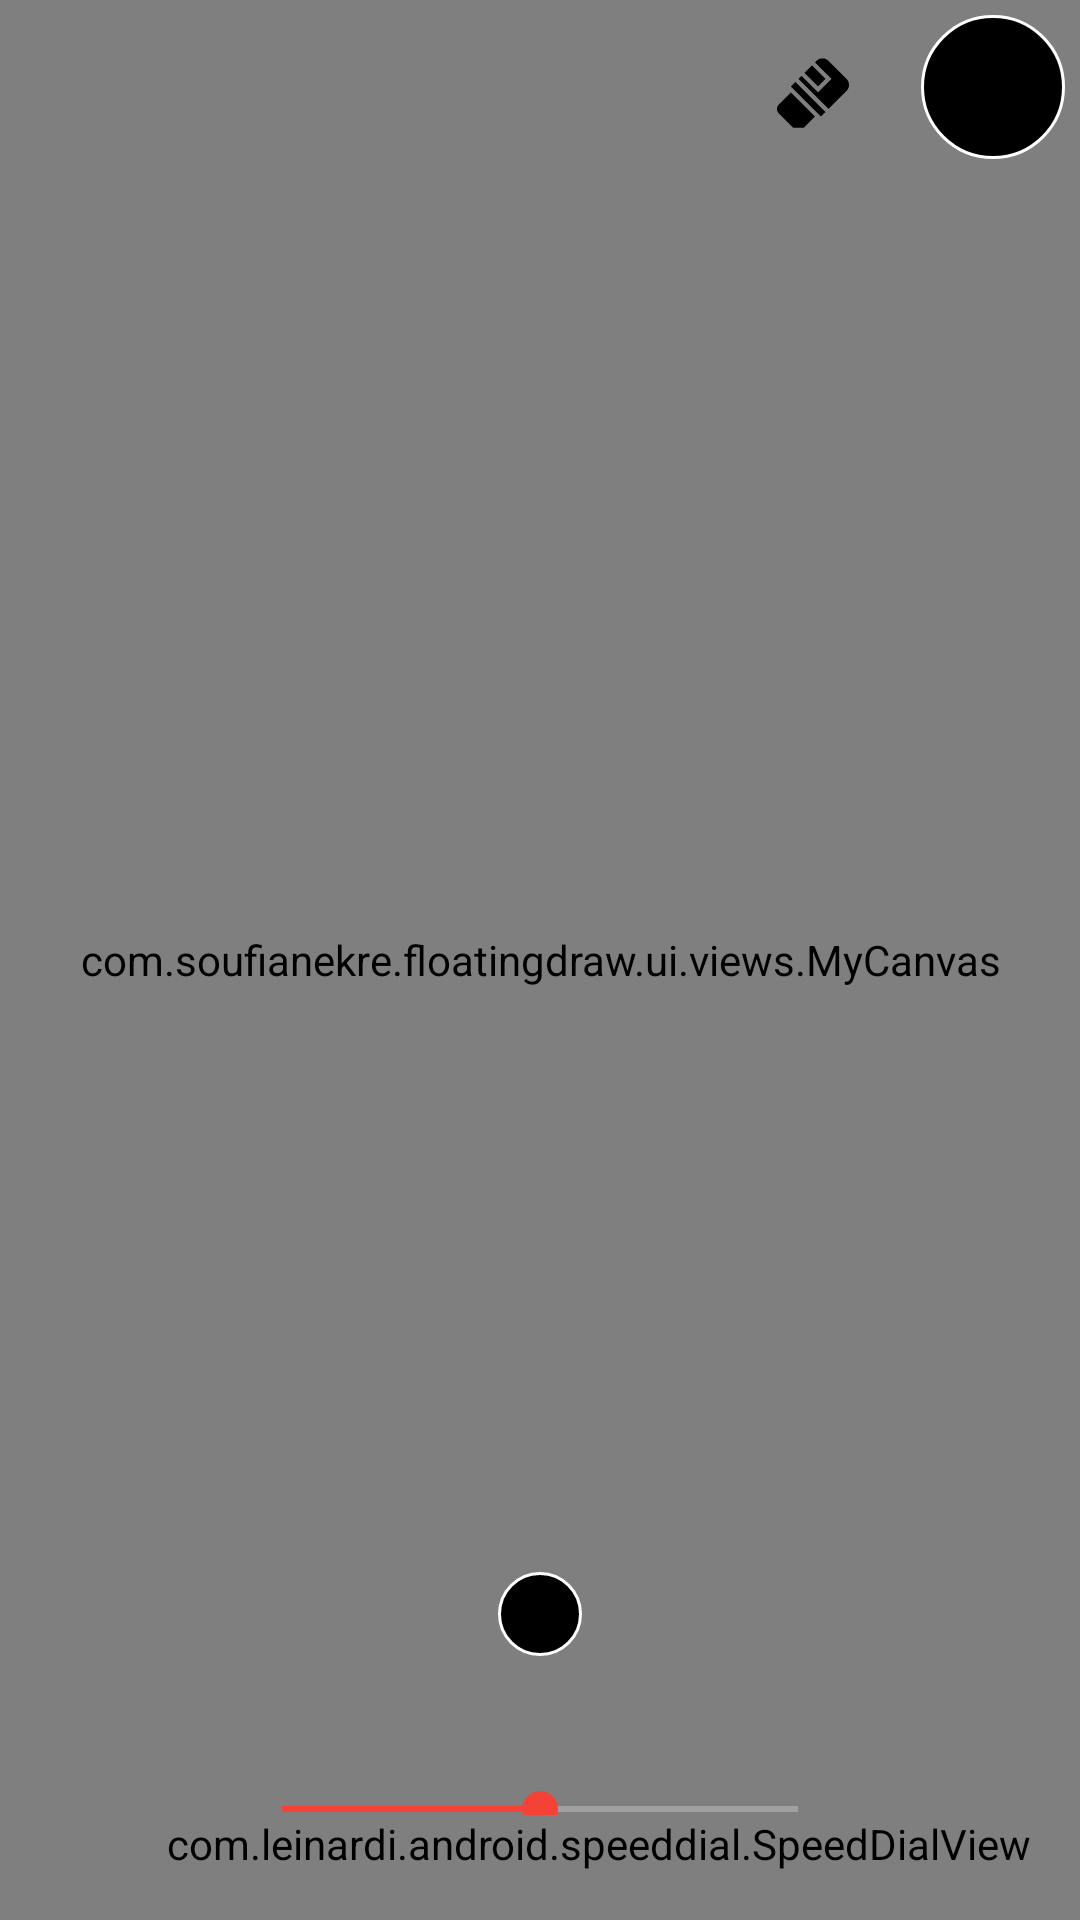

Locate icon controls on the screen. Image size 1080*1920, boxes as (x1, y1, x2, y2).
Activate Eraser: (777, 58, 849, 128)
